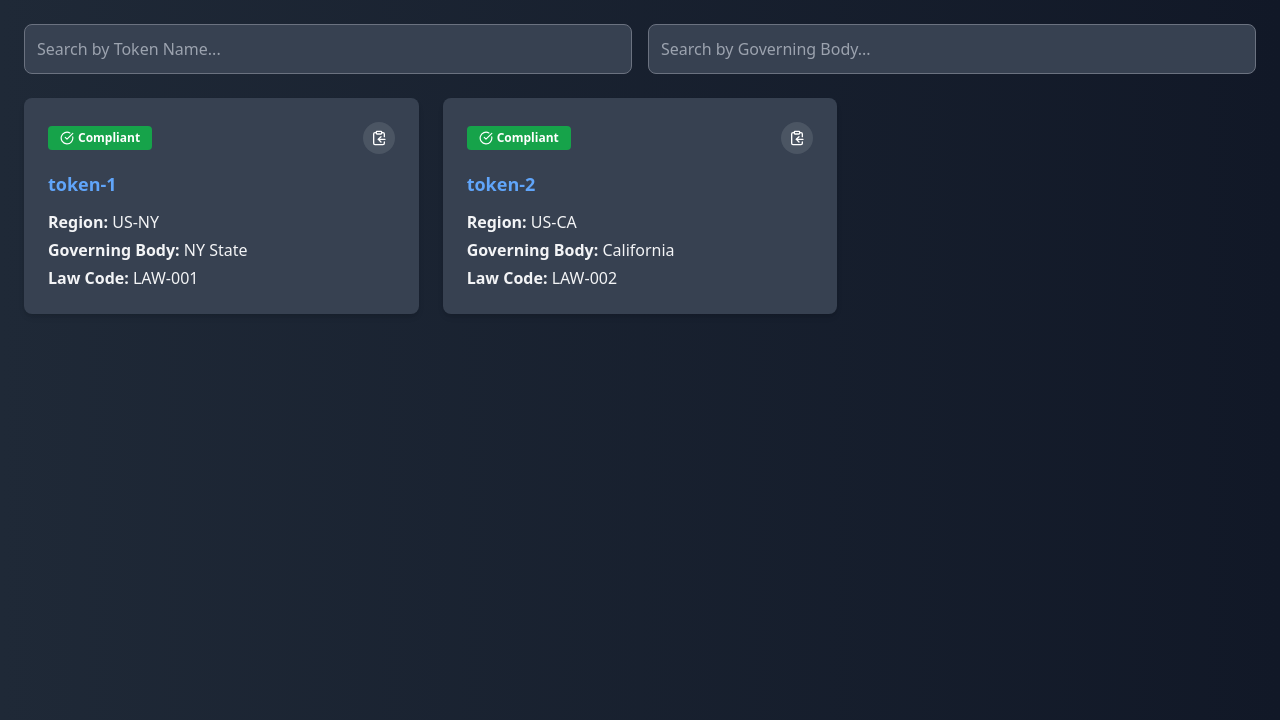
Test case: Compliance Render and Searches › filters by token name and displays only token-1
Expected: the link "token-1" is shown, [48,172,117,196]
Expected: the link "token-2" is shown, [467,172,535,196]
Note: Simulate typing in the search field for Token Name
Type "token-1" into the field with placeholder "Search by Token Name..." at [328, 49], box [24,24,632,74]
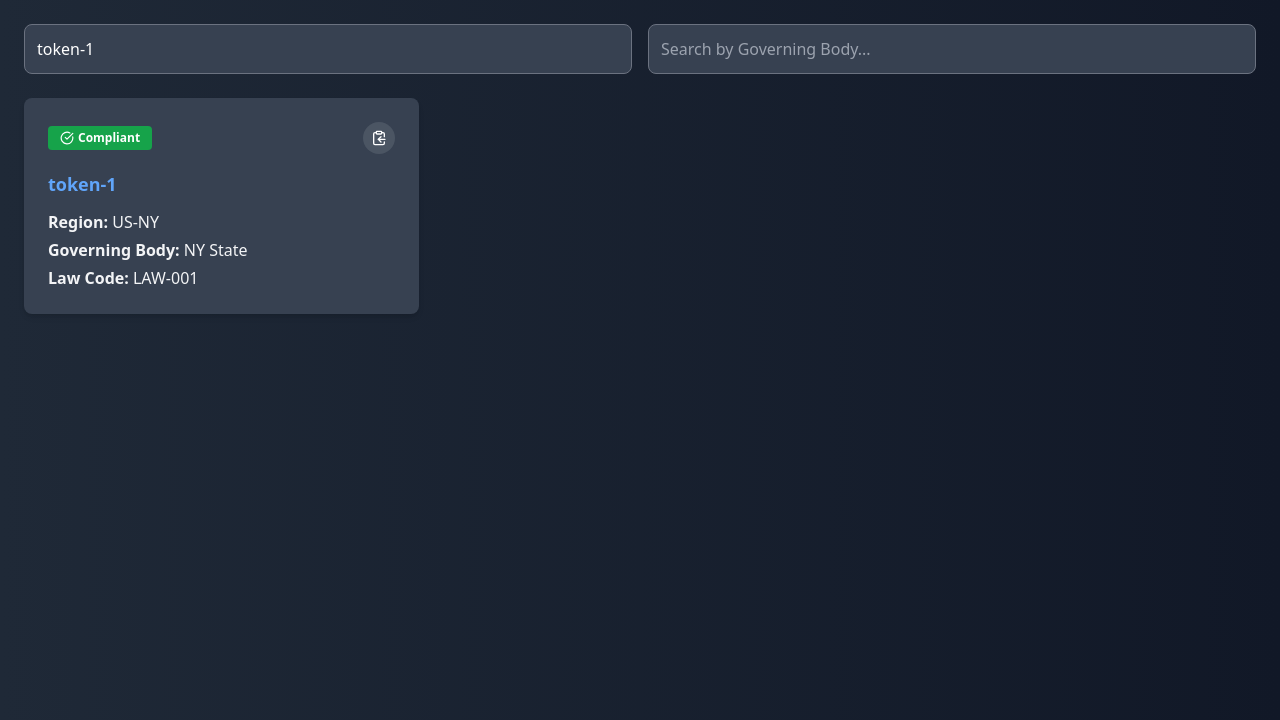
Expected: the link "token-1" is shown, [48,172,117,196]
Expected: the link "token-2" is gone
